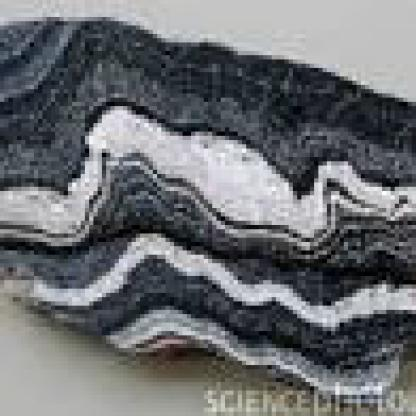Metamorphic_Quartize: (0, 8, 408, 386)
